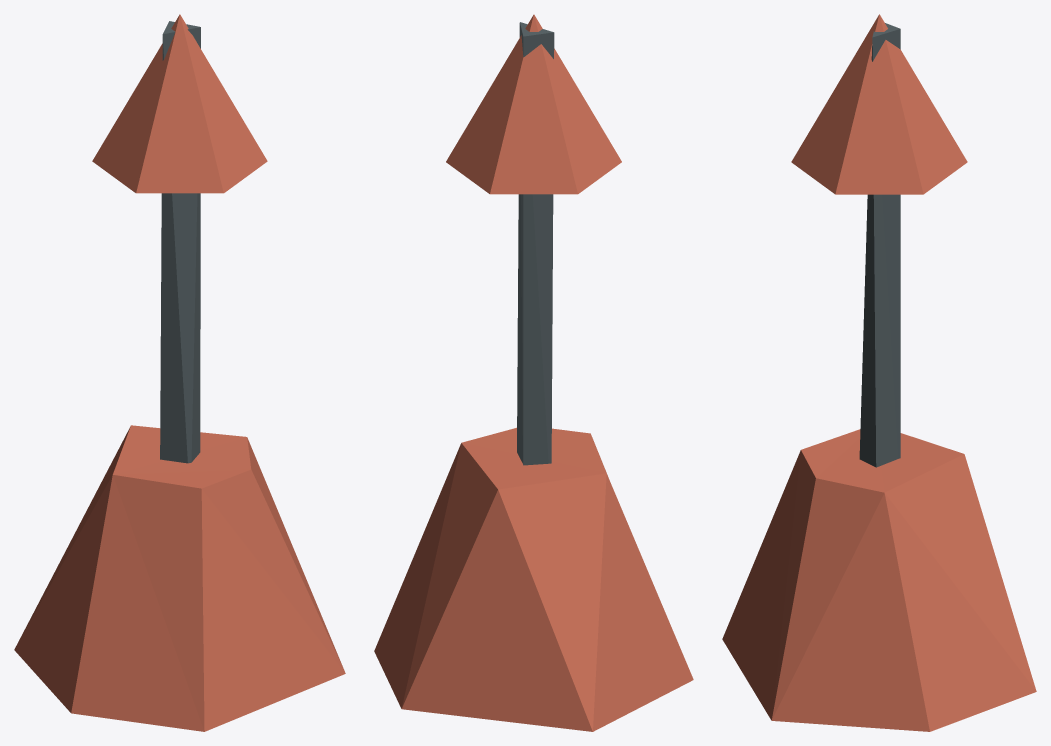
Rendered from harbor.buoy.lod1.glb.
3 renders of one model, left to right at view 1: azimuth 30°, elevation 25°; view 2: azimuth 150°, elevation 25°; view 3: azimuth 270°, elevation 25°, orthographic.
Parts seen in each view (by area): view 1: Float, Mark, Mast; view 2: Float, Mark, Mast; view 3: Float, Mark, Mast.
Part boxes in pixels (x1,y1,x2,y2): Float: (14, 425, 345, 731); Mark: (92, 14, 267, 193); Mast: (160, 21, 200, 463); Float: (374, 427, 693, 731); Mark: (446, 14, 621, 194); Mast: (517, 22, 554, 465); Float: (722, 429, 1036, 731); Mark: (791, 14, 967, 194); Mast: (859, 23, 900, 467).
Bounding box in the file's own units: 0.9511 × 2.2 × 0.9613.
